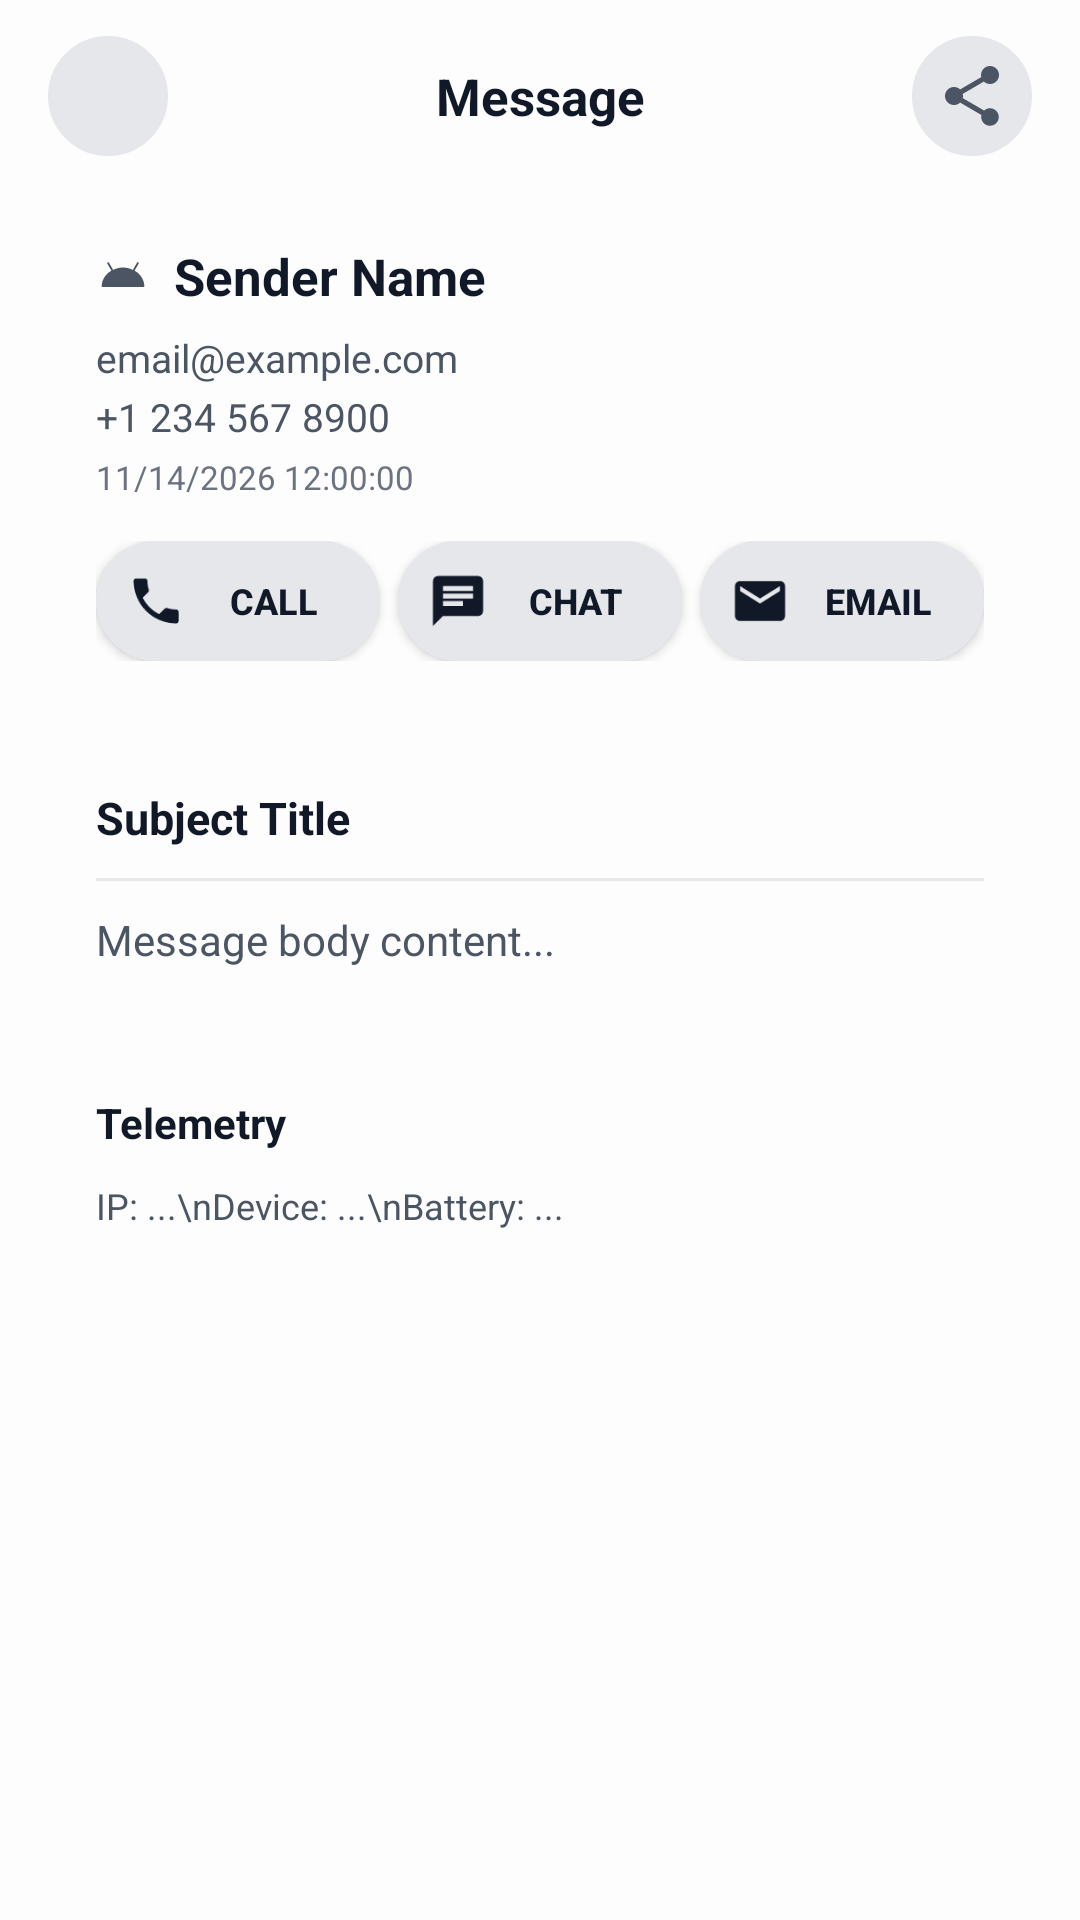

Screen size 1080x1920. Icon name, then its center in pixels as point (x, y):
Share: point (972, 96)
